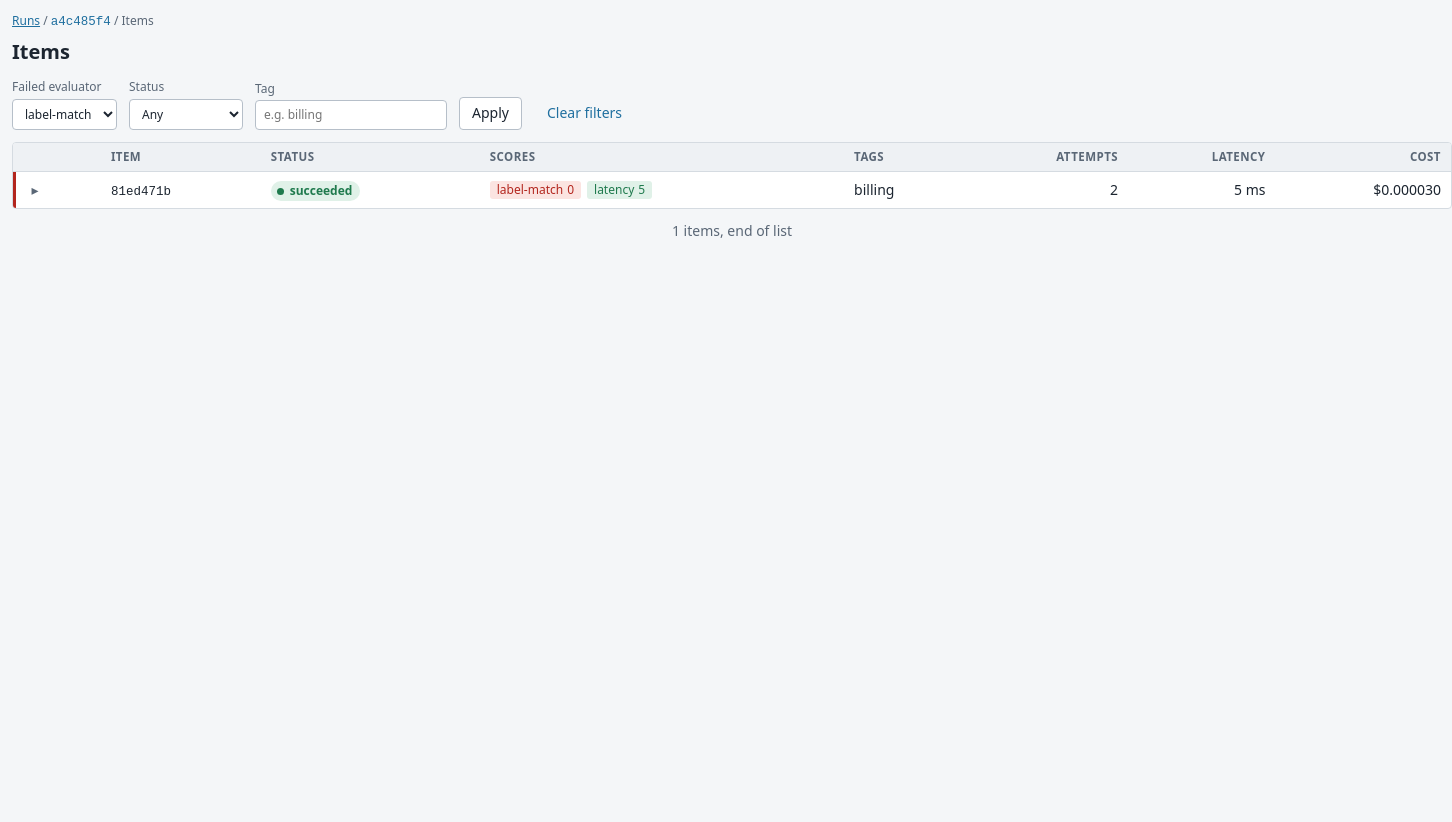
it: ItemsPage › expands a row to show input, expected, actual, scores, error and attempts
Click the button named "expand item 81ed471b" at (35, 190), box [23,178,47,202]
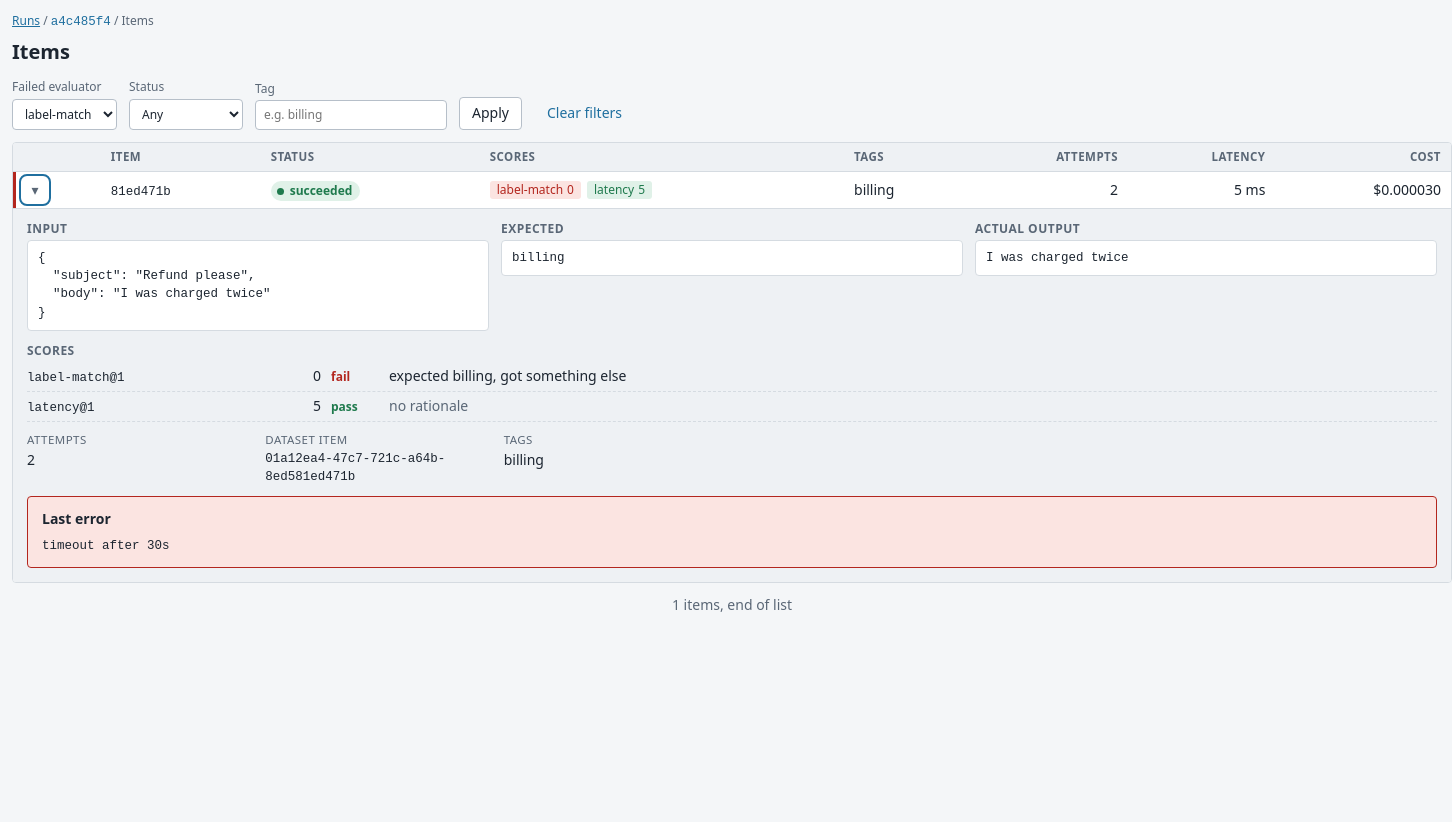
Result: the element "Input" shows "\"subject\": \"Refund please\"" at [38,251,271,320]
Result: the element "Expected" shows "billing" at [512,251,564,265]
Result: the element "Actual output" shows "I was charged twice" at [986,251,1128,265]
Click the button named "collapse item" at (35, 190), box [23,178,47,202]
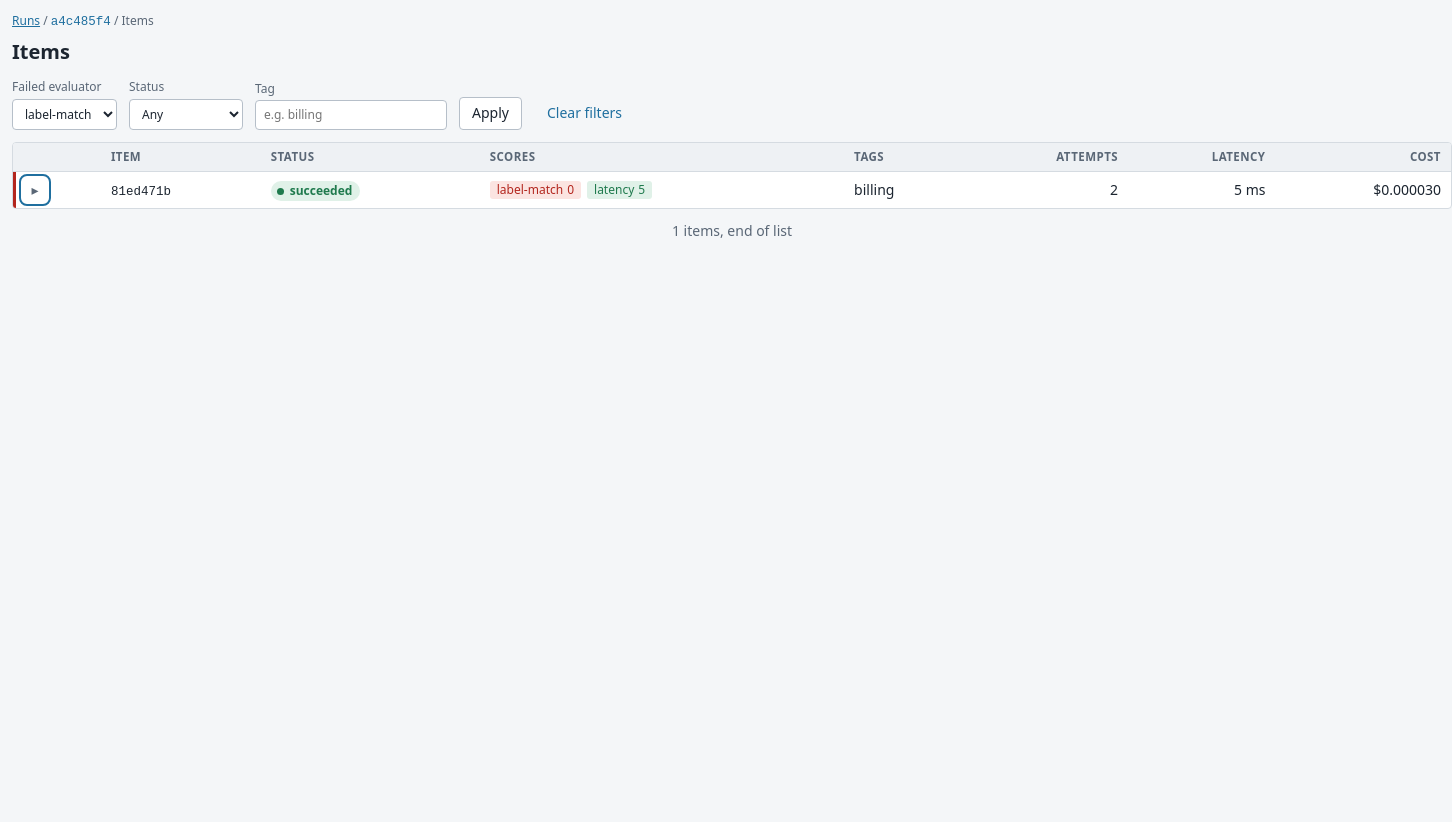
Result: the element with test id "item-detail" is gone
